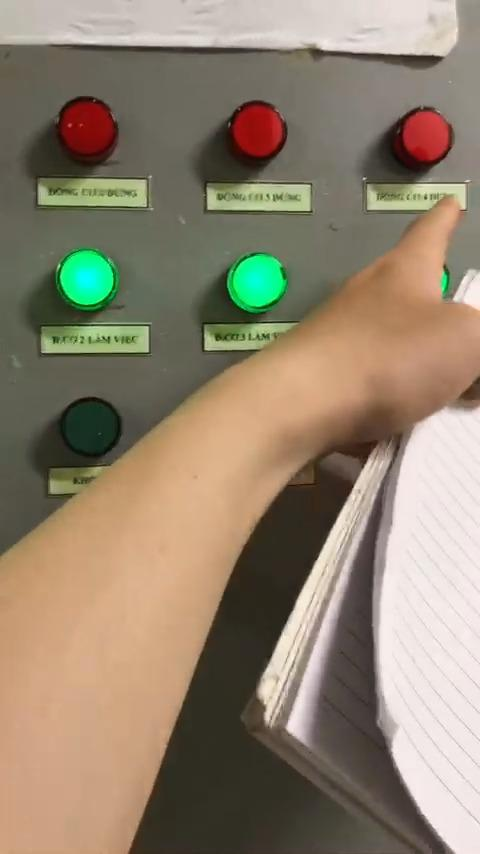led: (54, 91, 122, 160), (59, 398, 129, 462), (57, 248, 123, 310), (224, 252, 290, 312), (226, 101, 287, 160), (399, 108, 455, 163)
